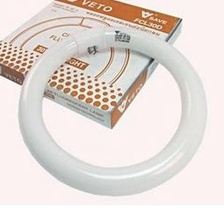book: (0, 0, 186, 133)
light_bulb: (13, 22, 209, 203)
